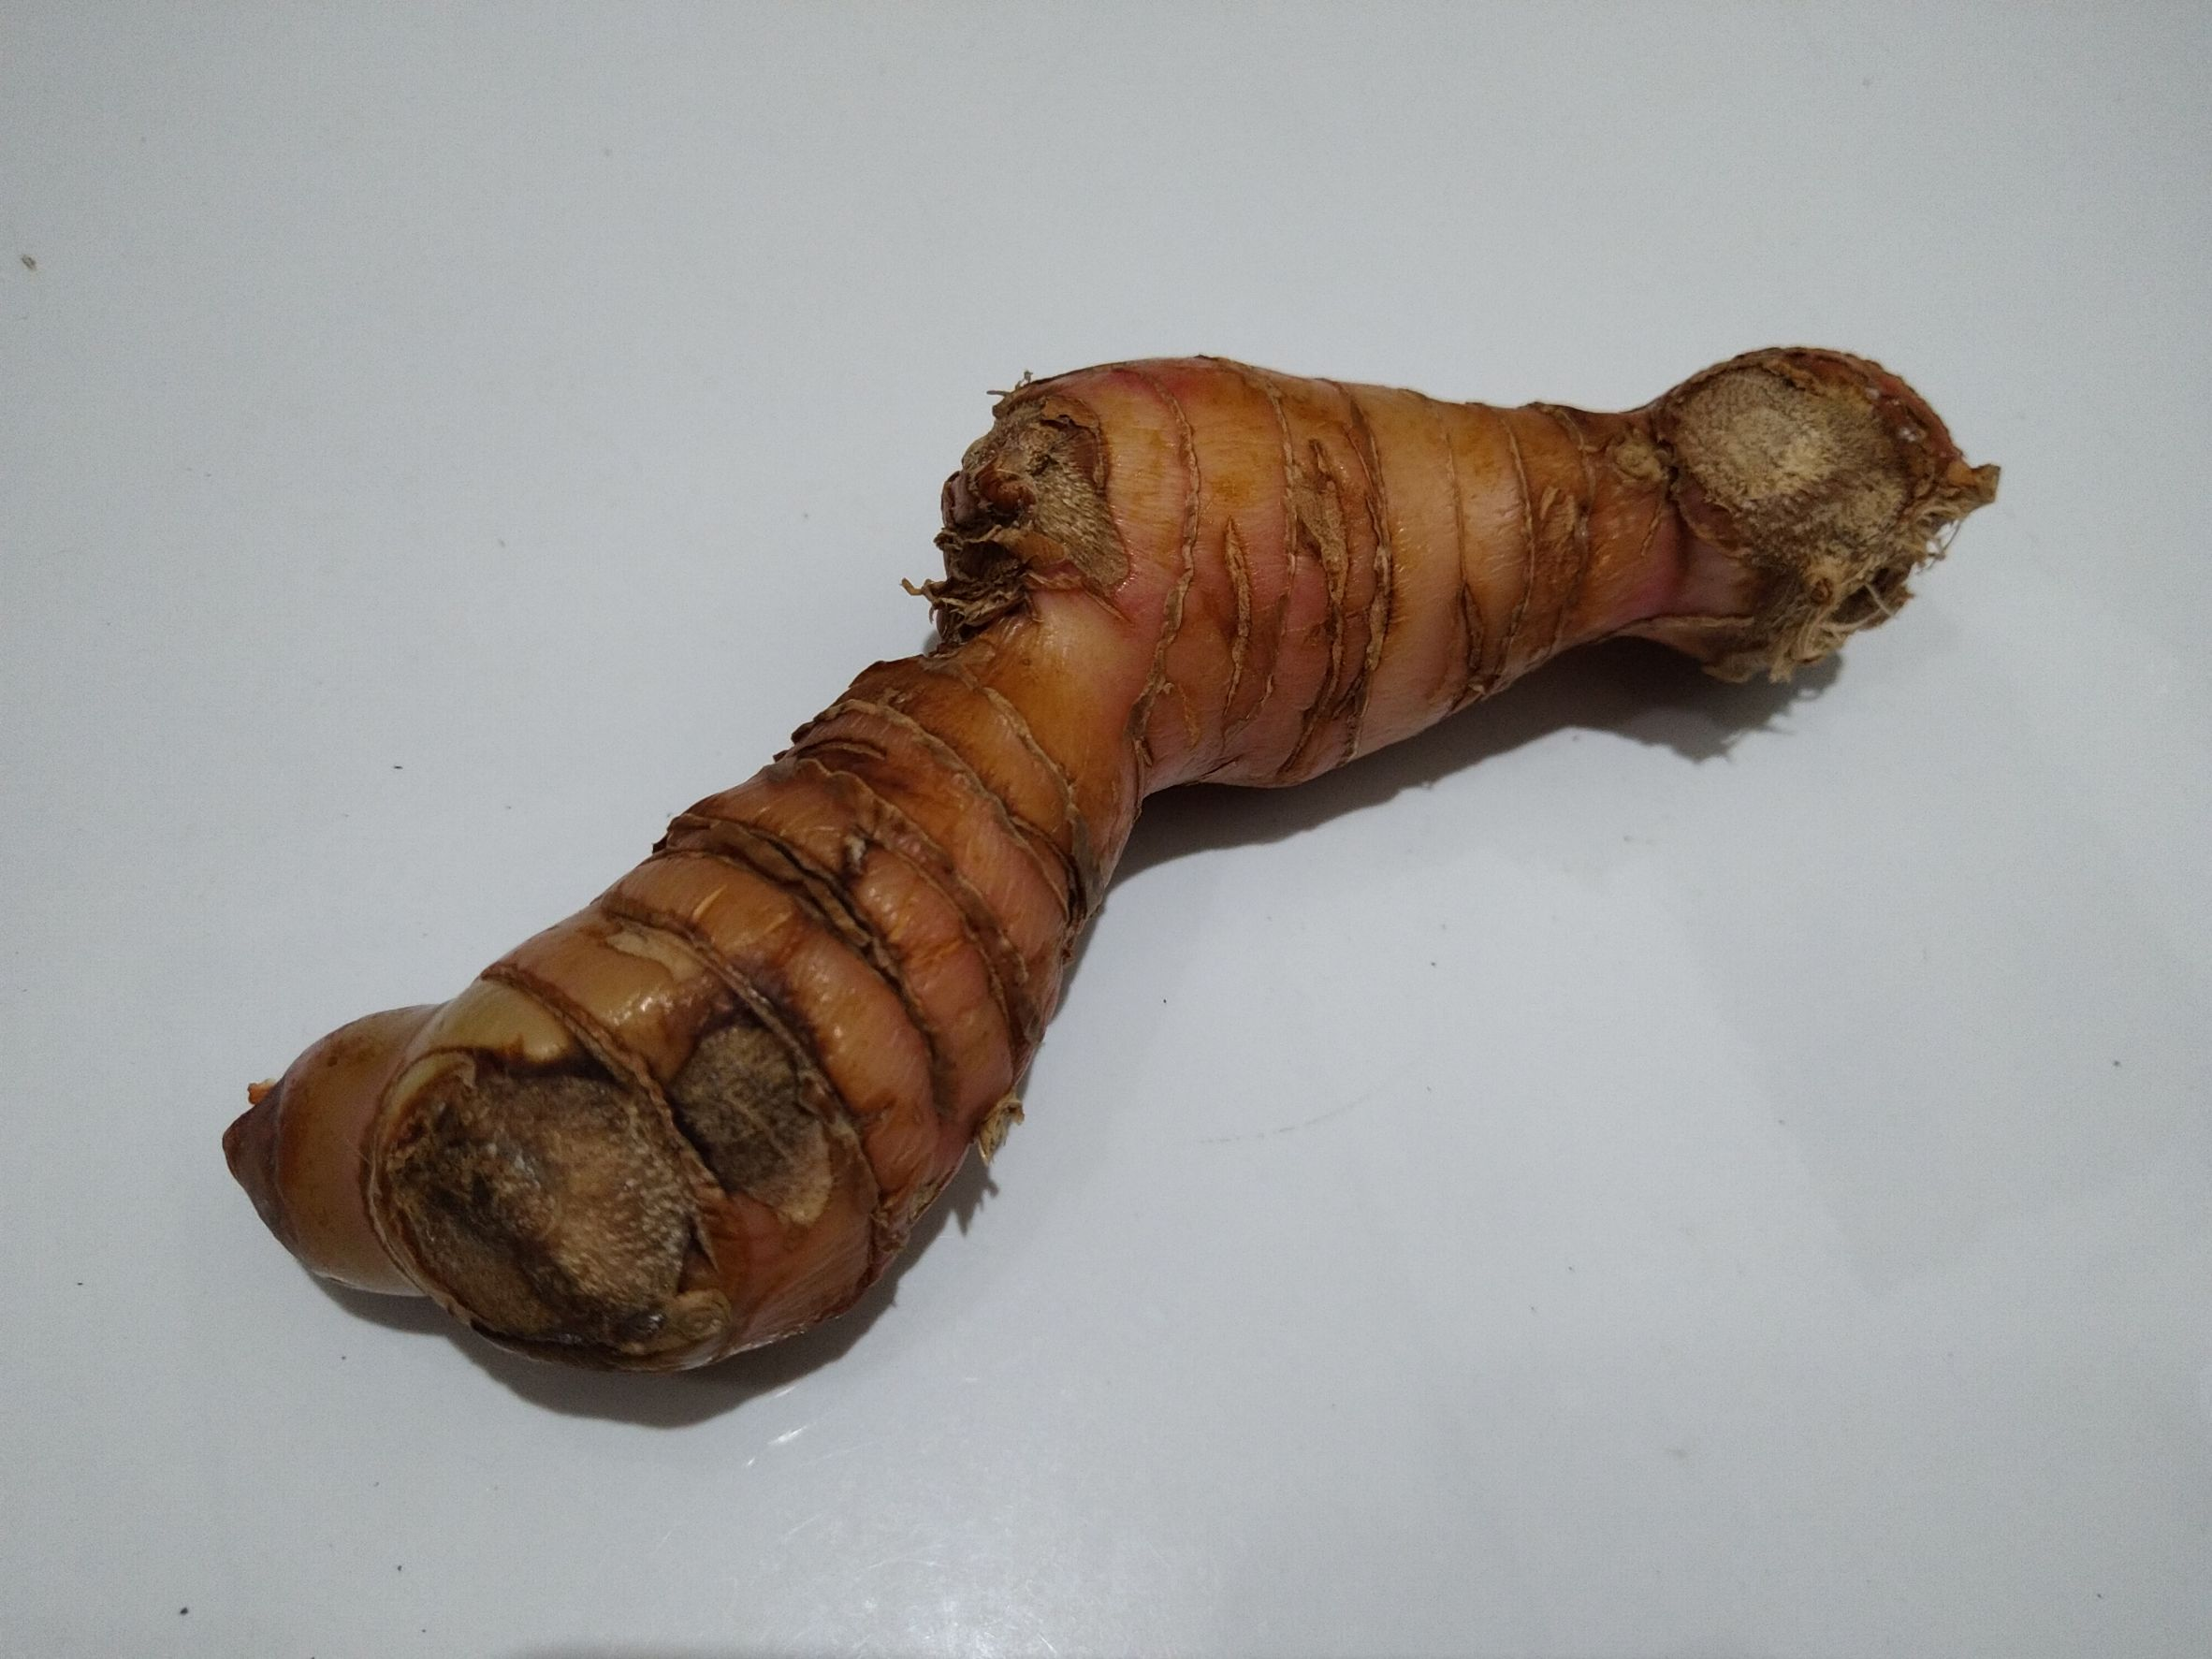Lengkuas: (228, 338, 1994, 1415)
